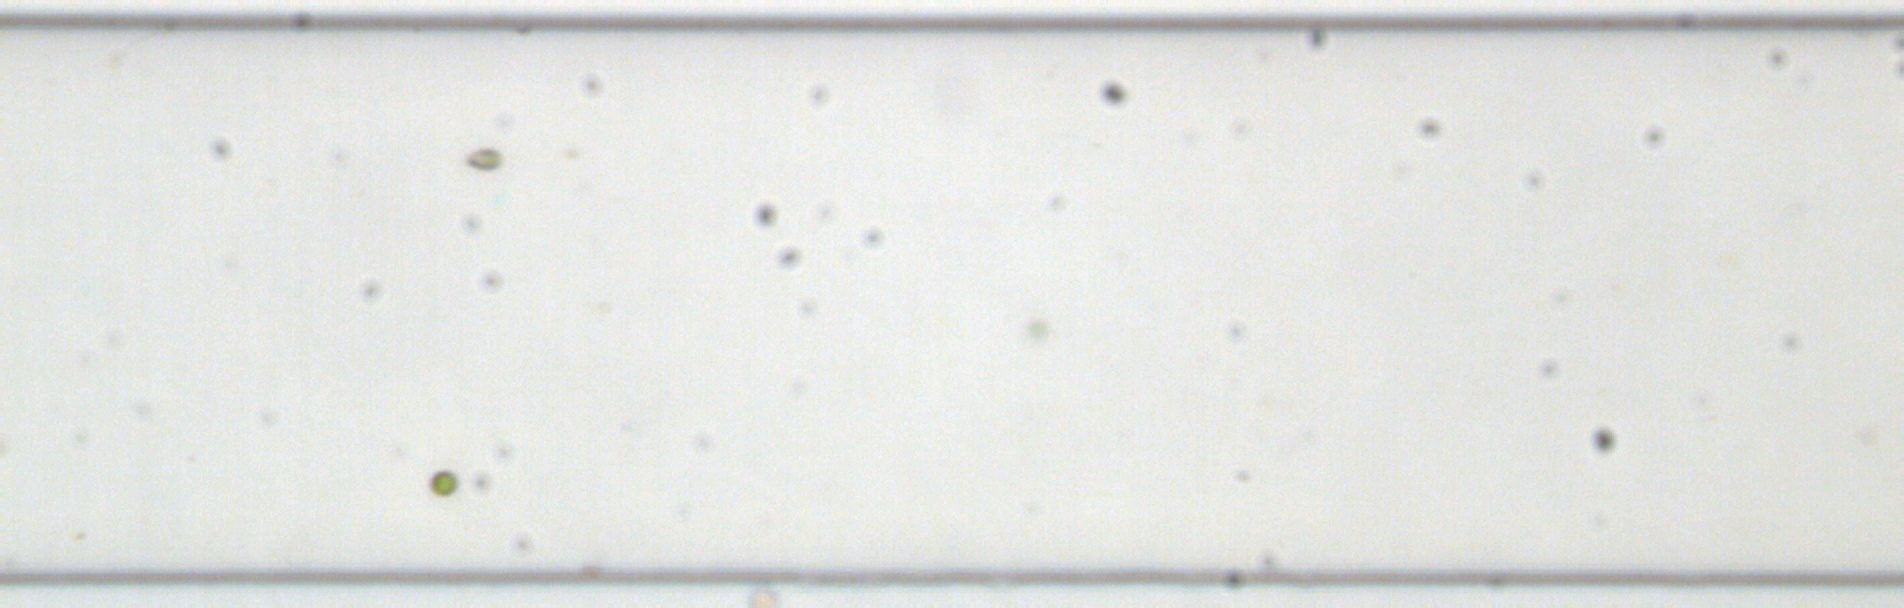Chlorella: (426, 466, 460, 496), (1024, 313, 1050, 341)
Dunaliella salina: (461, 144, 504, 174)
